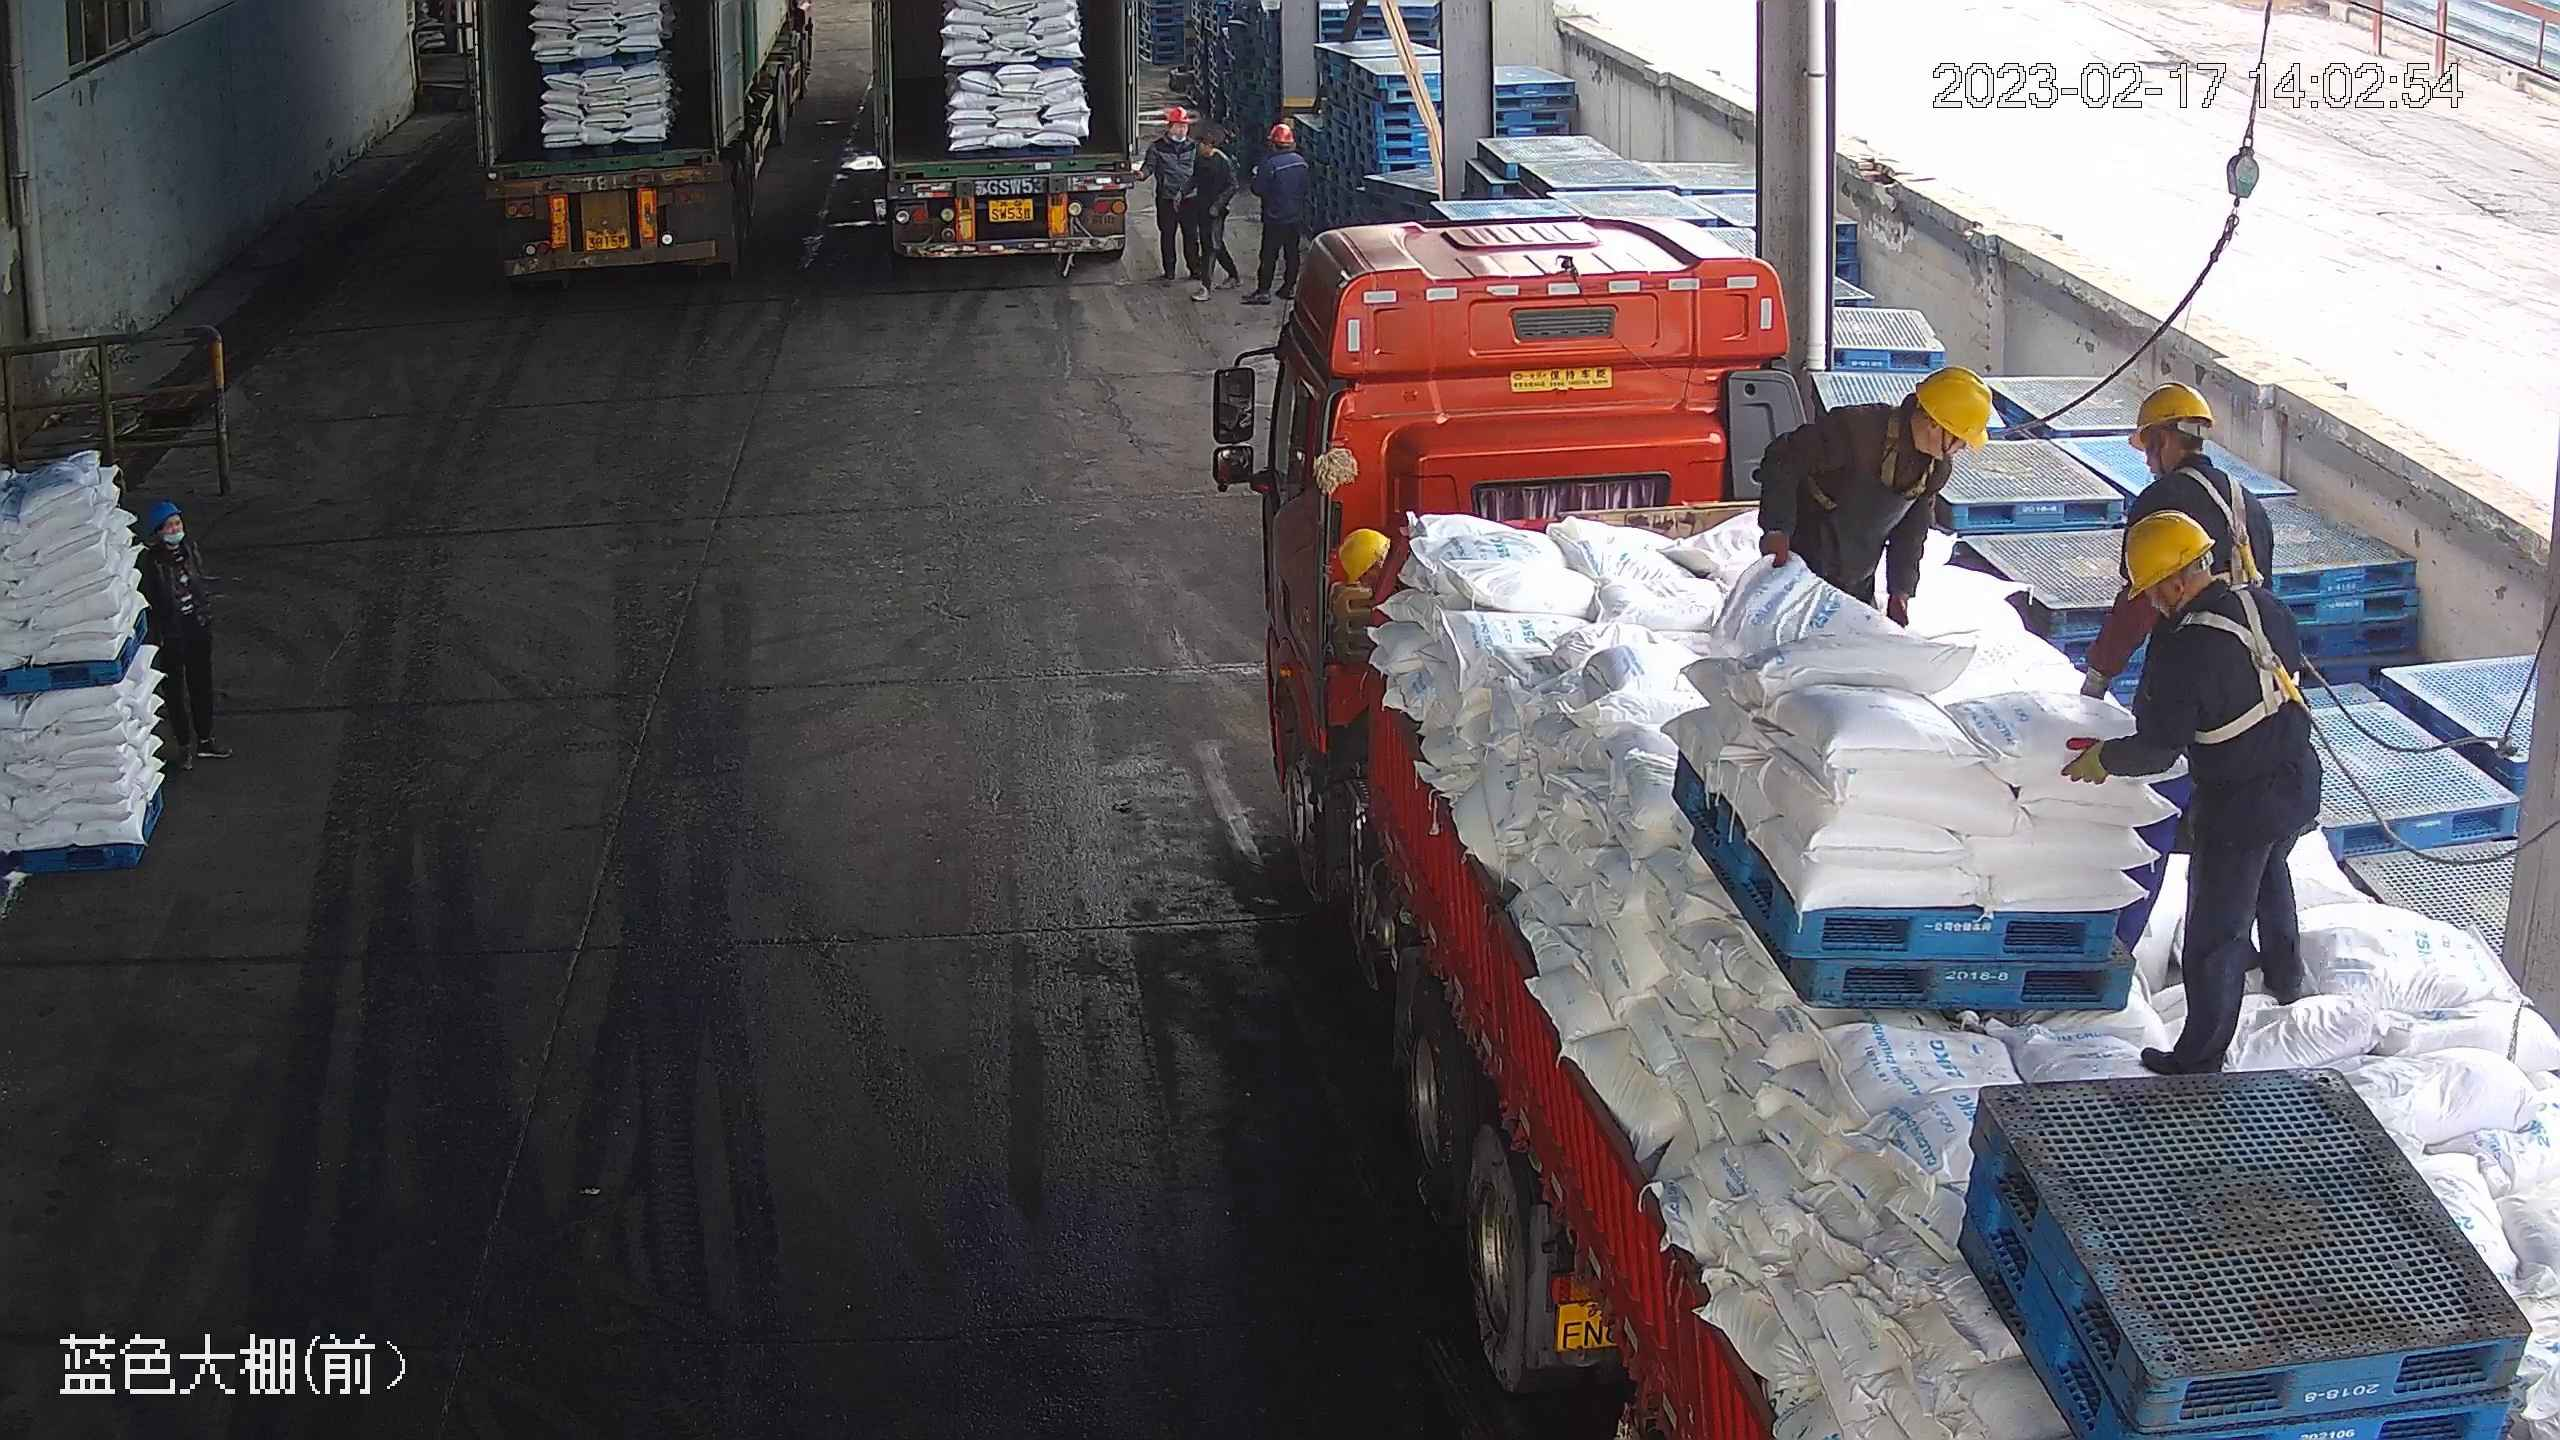belt: (2180, 582, 2310, 746), (2183, 460, 2271, 568), (1856, 411, 1937, 503)
head: (2118, 509, 2293, 673), (1825, 367, 1992, 500), (2124, 383, 2260, 520), (1255, 112, 1317, 173), (1164, 120, 1224, 173), (1146, 106, 1192, 159), (1191, 134, 1230, 183)
helmet: (2118, 506, 2216, 600), (1914, 366, 1994, 452), (2127, 382, 2217, 445), (1336, 526, 1387, 584), (1276, 111, 1302, 130), (1160, 106, 1186, 125)
people: (2063, 511, 2325, 1078), (1751, 367, 1994, 643), (1247, 110, 1314, 302), (1141, 105, 1195, 283), (1188, 126, 1235, 294)
truck: (1237, 195, 2560, 1439), (472, 1, 822, 283), (847, 2, 1148, 281)
